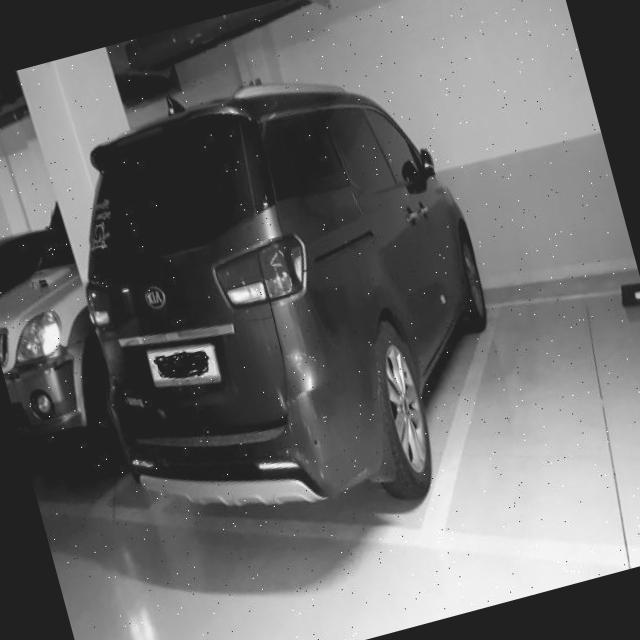car: (47, 54, 538, 576)
free: (468, 258, 640, 561)
